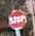stop: (7, 8, 27, 29)
